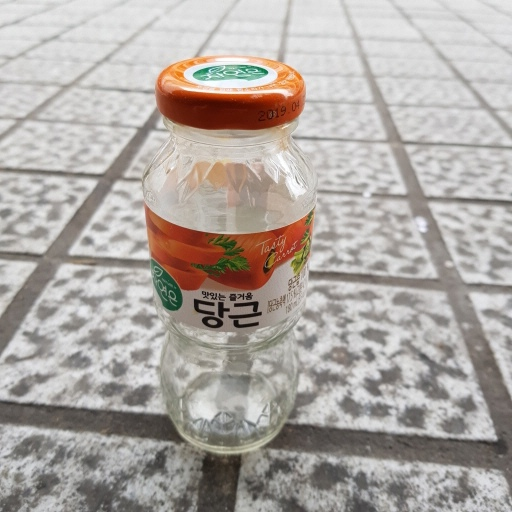Glass_4: (140, 47, 313, 458)
